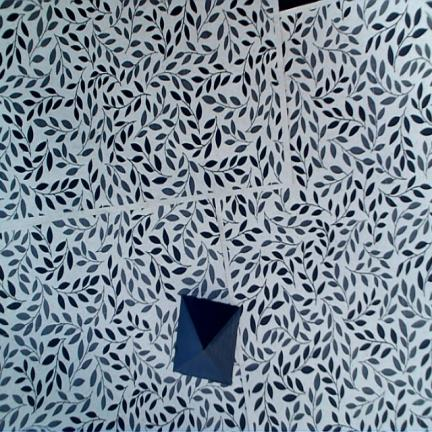Piramide: (172, 295, 241, 383)
